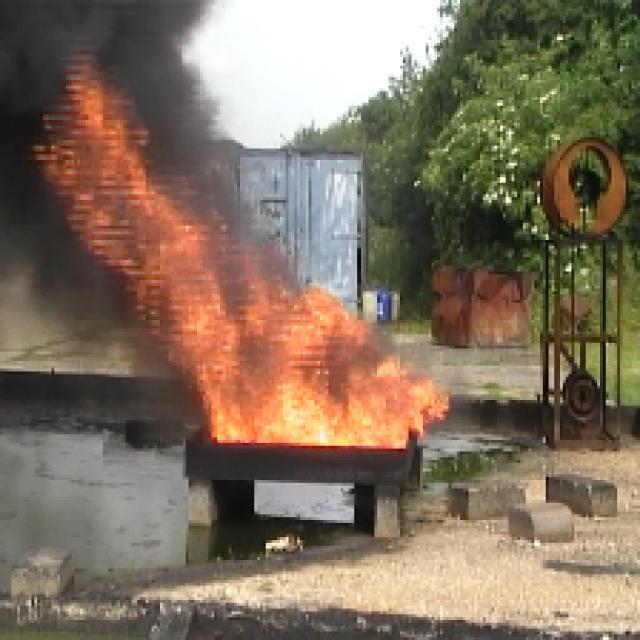Fire: (184, 318, 422, 444), (56, 111, 133, 220), (122, 228, 210, 302)
Smoke: (7, 9, 185, 76), (165, 95, 223, 194), (44, 232, 83, 327), (13, 117, 37, 226)
